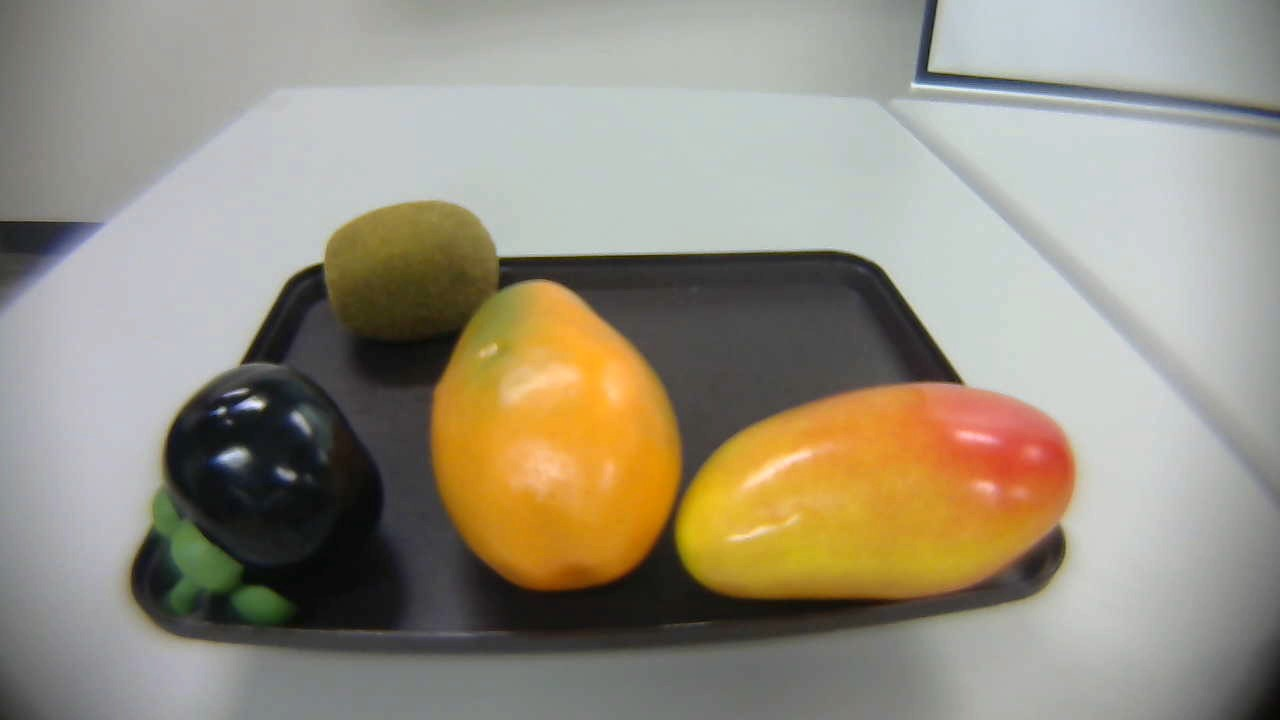kiwi fruit: (302, 199, 525, 356)
mangosteen: (135, 356, 388, 638)
papya: (420, 269, 693, 618)
red mango: (672, 378, 1082, 604)
